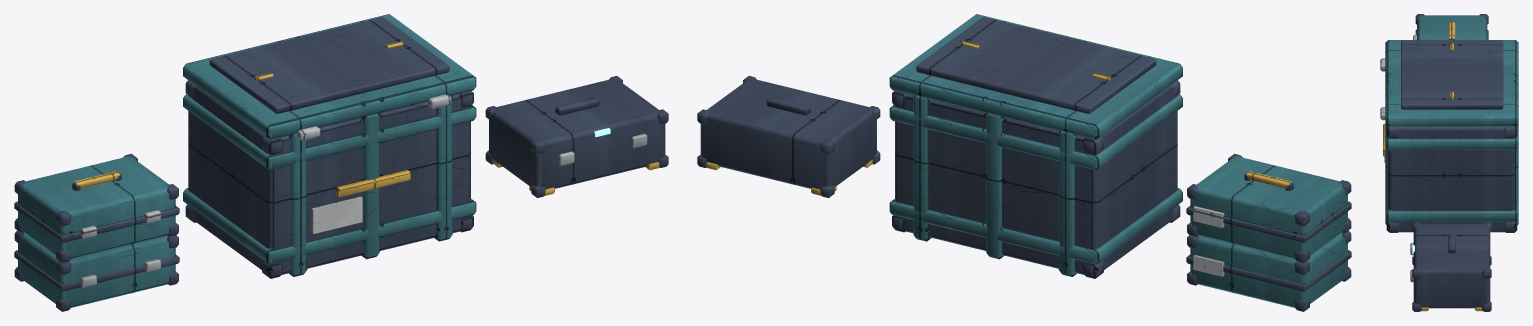
3 views of the same model, side by side, from view 1: azimuth 30°, elevation 25°; view 2: azimuth 150°, elevation 25°; view 3: azimuth 270°, elevation 25° (orthographic). The views are drawn at different scales.
Parts seen in each view (by area): view 1: DL018_ResearchCrates_graphite_navy, DL018_ResearchCrates_teal_shell, DL018_ResearchCrates_amber_accent, DL018_ResearchCrates_titanium, DL018_ResearchCrates_hull_offwhite; view 2: DL018_ResearchCrates_graphite_navy, DL018_ResearchCrates_teal_shell, DL018_ResearchCrates_hull_offwhite, DL018_ResearchCrates_amber_accent; view 3: DL018_ResearchCrates_graphite_navy, DL018_ResearchCrates_teal_shell, DL018_ResearchCrates_amber_accent, DL018_ResearchCrates_titanium.
Boxes of the visible parts, bbox=[...] form: DL018_ResearchCrates_graphite_navy: bbox=[14, 17, 668, 311]; DL018_ResearchCrates_teal_shell: bbox=[18, 14, 476, 307]; DL018_ResearchCrates_amber_accent: bbox=[74, 41, 659, 197]; DL018_ResearchCrates_titanium: bbox=[80, 94, 647, 287]; DL018_ResearchCrates_hull_offwhite: bbox=[311, 196, 362, 233]; DL018_ResearchCrates_graphite_navy: bbox=[697, 17, 1351, 311]; DL018_ResearchCrates_teal_shell: bbox=[889, 14, 1347, 307]; DL018_ResearchCrates_hull_offwhite: bbox=[1193, 206, 1224, 276]; DL018_ResearchCrates_amber_accent: bbox=[706, 41, 1291, 195]; DL018_ResearchCrates_graphite_navy: bbox=[1386, 14, 1517, 311]; DL018_ResearchCrates_teal_shell: bbox=[1385, 15, 1518, 224]; DL018_ResearchCrates_amber_accent: bbox=[1383, 22, 1482, 311]; DL018_ResearchCrates_titanium: bbox=[1380, 35, 1416, 282].
Size of the model in its own units: 4.17 by 1.11 by 1.08.
Materials: 6 (5 with a texture image).
